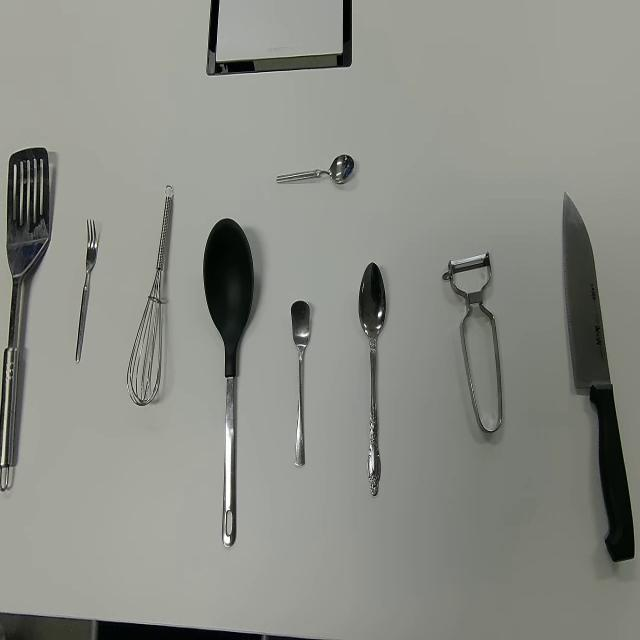Desert-Spoon: (358, 261, 387, 498)
Dinner-Fork: (74, 216, 98, 364)
Kitchen-Knife: (561, 190, 636, 564)
Peeler: (441, 250, 503, 434)
Serving-Spoon: (202, 216, 255, 548), (1, 144, 51, 492)
Tea-Spoon: (290, 298, 311, 468), (275, 152, 355, 187)
Whisk: (126, 183, 175, 407)
